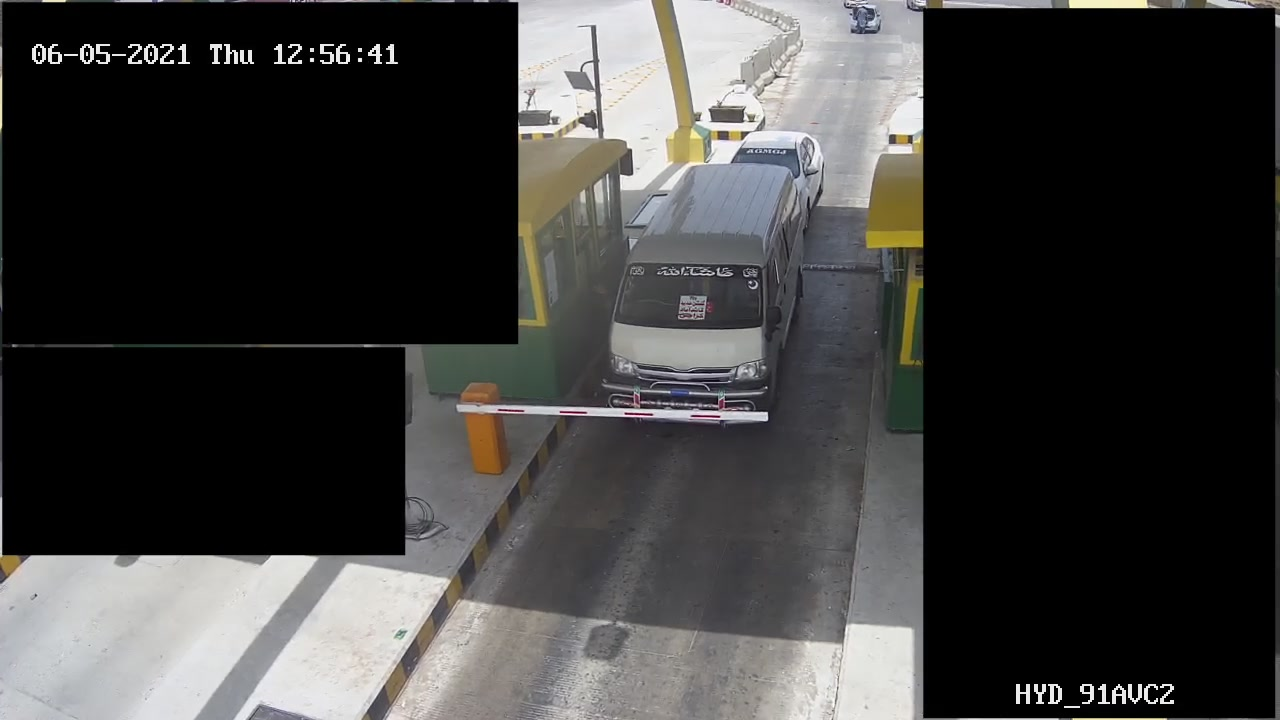F2: (602, 162, 806, 417)
